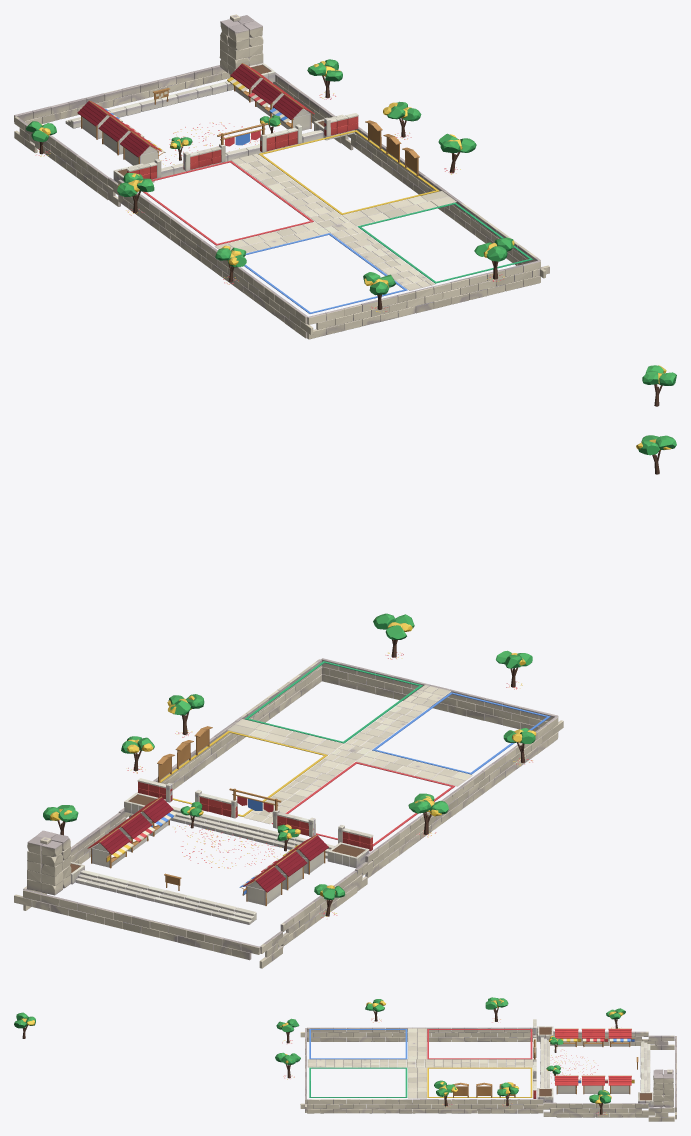
The model's file is village_2.glb.
3 views of the same model, one above another, from view 1: azimuth 30°, elevation 25°; view 2: azimuth 150°, elevation 25°; view 3: azimuth 270°, elevation 25° (orthographic). The views are drawn at different scales.
Parts seen in each view (by area): view 1: Lobby_Retaining_Stone, Lobby_Walk_Stone, Lobby_Sakura_Leaf, Lobby_Shops_Roof, Lobby_Steps_Stone, Lobby_Perch_Stone, Lobby_Shops_Plaster, Lobby_TrainWall_Clay, Lobby_TrainWall_Stone, Lobby_Sakura_Blush, Lobby_Zones_Gold, Lobby_Training_Timber (+6 smaller); view 2: Lobby_Retaining_Stone, Lobby_Walk_Stone, Lobby_Sakura_Leaf, Lobby_Steps_Stone, Lobby_Shops_Roof, Lobby_Perch_Stone, Lobby_Shops_Plaster, Lobby_TrainWall_Clay, Lobby_Sakura_Blush, Lobby_TrainWall_Stone, Lobby_Planters_Stone, Lobby_Sakura_Bark (+3 smaller); view 3: Lobby_Retaining_Stone, Lobby_Walk_Stone, Lobby_Sakura_Leaf, Lobby_Shops_Roof, Lobby_Steps_Stone, Lobby_Perch_Stone, Lobby_Shops_Plaster, Lobby_Sakura_Blush, Lobby_Shops_Timber, Lobby_Planters_Stone, Lobby_Zones_Coral, Lobby_Zones_Gold (+6 smaller).
Boxes of the visible parts, bbox=[...] form: Lobby_Retaining_Stone: bbox=[14, 65, 549, 339]; Lobby_Walk_Stone: bbox=[214, 153, 456, 290]; Lobby_Sakura_Leaf: bbox=[26, 59, 676, 385]; Lobby_Shops_Roof: bbox=[77, 64, 314, 157]; Lobby_Steps_Stone: bbox=[65, 81, 323, 178]; Lobby_Perch_Stone: bbox=[219, 14, 263, 74]; Lobby_Shops_Plaster: bbox=[82, 78, 310, 165]; Lobby_TrainWall_Clay: bbox=[127, 116, 358, 179]; Lobby_TrainWall_Stone: bbox=[126, 113, 358, 178]; Lobby_Sakura_Blush: bbox=[39, 61, 666, 383]; Lobby_Zones_Gold: bbox=[258, 130, 439, 214]; Lobby_Training_Timber: bbox=[365, 120, 419, 176]; Lobby_Retaining_Stone: bbox=[14, 658, 563, 968]; Lobby_Walk_Stone: bbox=[227, 685, 472, 824]; Lobby_Sakura_Leaf: bbox=[43, 435, 676, 899]; Lobby_Steps_Stone: bbox=[75, 806, 334, 924]; Lobby_Shops_Roof: bbox=[87, 797, 328, 892]; Lobby_Perch_Stone: bbox=[27, 830, 71, 895]; Lobby_Shops_Plaster: bbox=[91, 812, 323, 905]; Lobby_TrainWall_Clay: bbox=[138, 781, 372, 851]; Lobby_Sakura_Blush: bbox=[50, 439, 671, 896]; Lobby_TrainWall_Stone: bbox=[137, 778, 373, 843]; Lobby_Planters_Stone: bbox=[70, 792, 369, 884]; Lobby_Sakura_Bark: bbox=[57, 450, 660, 916]; Lobby_Retaining_Stone: bbox=[300, 1027, 676, 1121]; Lobby_Walk_Stone: bbox=[307, 1028, 532, 1098]; Lobby_Sakura_Leaf: bbox=[14, 997, 625, 1103]; Lobby_Shops_Roof: bbox=[555, 1029, 631, 1085]; Lobby_Steps_Stone: bbox=[540, 1037, 650, 1092]; Lobby_Perch_Stone: bbox=[653, 1069, 673, 1107]; Lobby_Shops_Plaster: bbox=[557, 1044, 629, 1093]; Lobby_Sakura_Blush: bbox=[21, 999, 623, 1103]; Lobby_Shops_Timber: bbox=[554, 1028, 634, 1094]; Lobby_Planters_Stone: bbox=[537, 1026, 653, 1107]; Lobby_Zones_Coral: bbox=[427, 1029, 532, 1059]; Lobby_Zones_Gold: bbox=[427, 1067, 532, 1097].
Bounding box in the file's own units: 206 × 72.13 × 595.
Materials: 31 (31 with a texture image).
